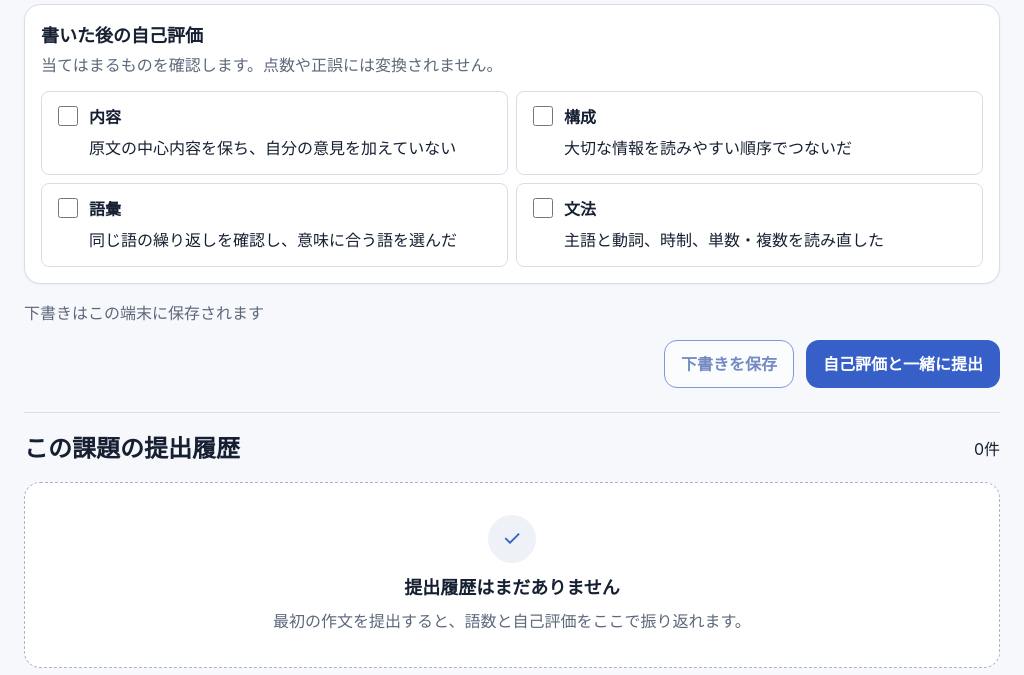
Test case: WritingPage › 空の提出を止め、入力後は正誤なしのAttemptと4観点を保存する
(page scrolled)
Click the button "自己評価と一緒に提出".
click(903, 364)  # box [806, 340, 1000, 388]
(page scrolled)
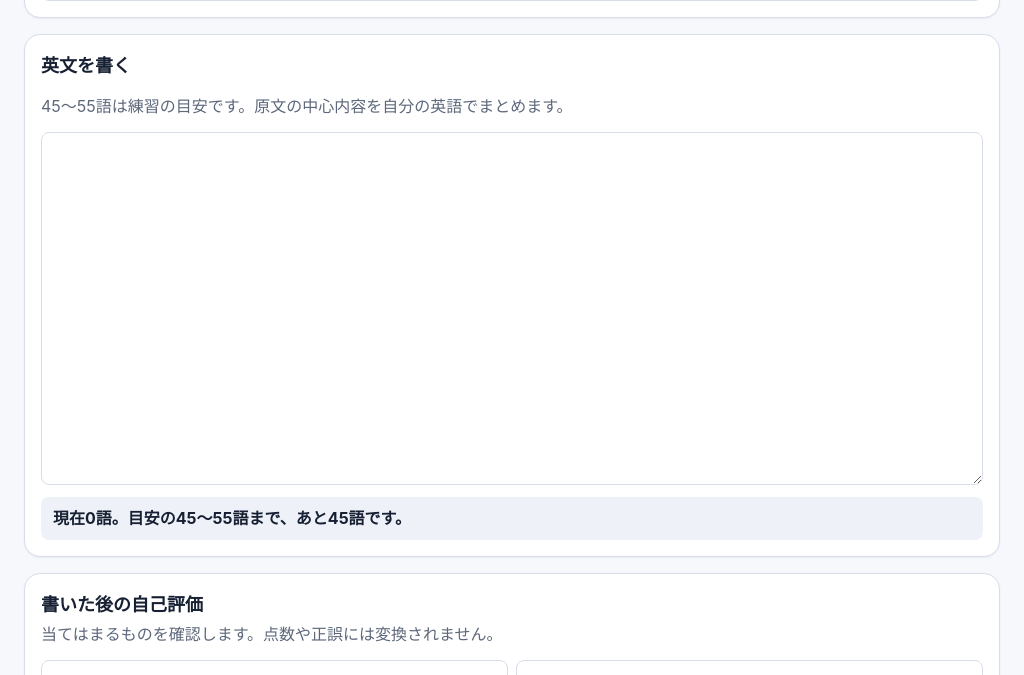
Type "The project helps local people and reduces waste." into the text box labelled "英文を書く".
click(512, 309); type("The project helps local people and reduces waste.")  # box [41, 132, 983, 485]
(page scrolled)
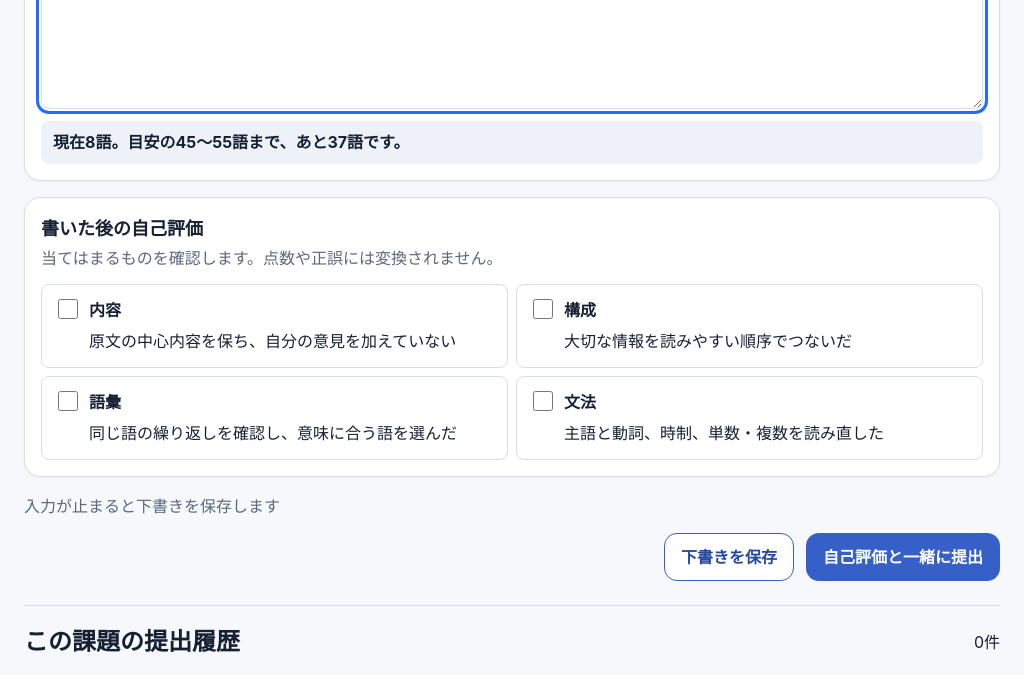
Click the checkbox labelled "内容 原文の中心内容を保ち、自分の意見を加えていない".
click(68, 309)  # box [58, 299, 78, 319]
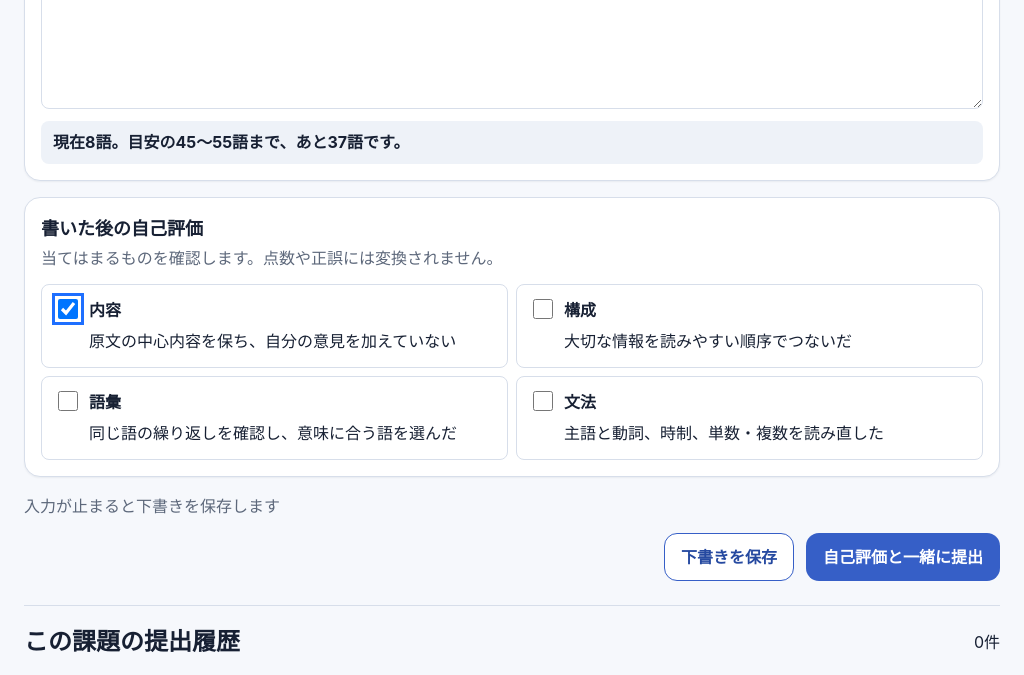
Click the checkbox labelled "構成 大切な情報を読みやすい順序でつないだ".
click(543, 309)  # box [533, 299, 553, 319]
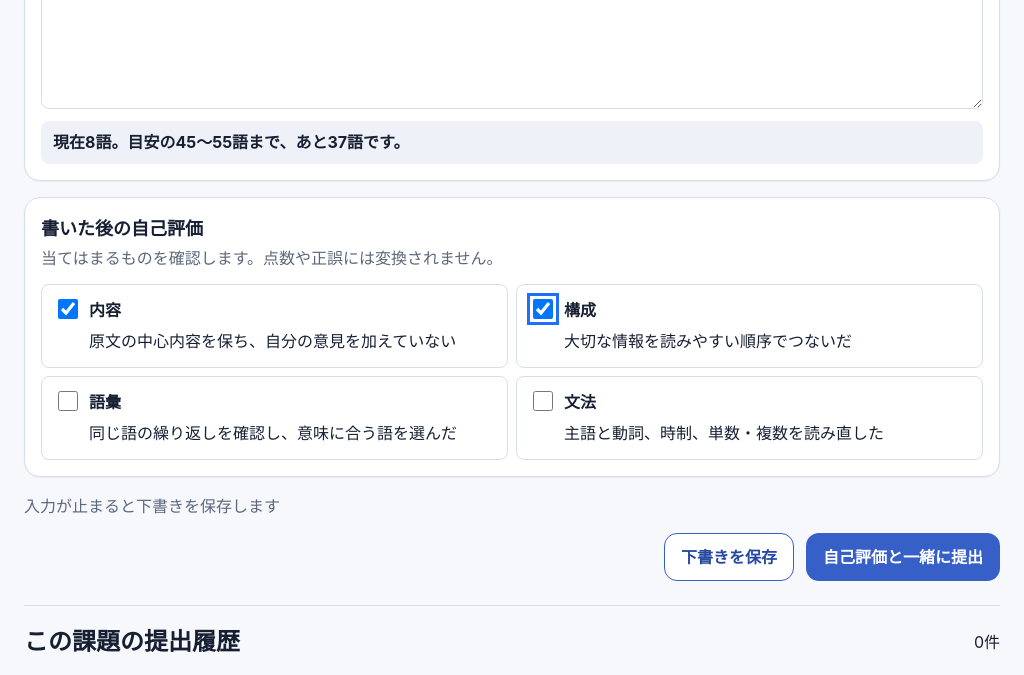
Click the button "自己評価と一緒に提出".
click(903, 557)  # box [806, 533, 1000, 581]
(page scrolled)
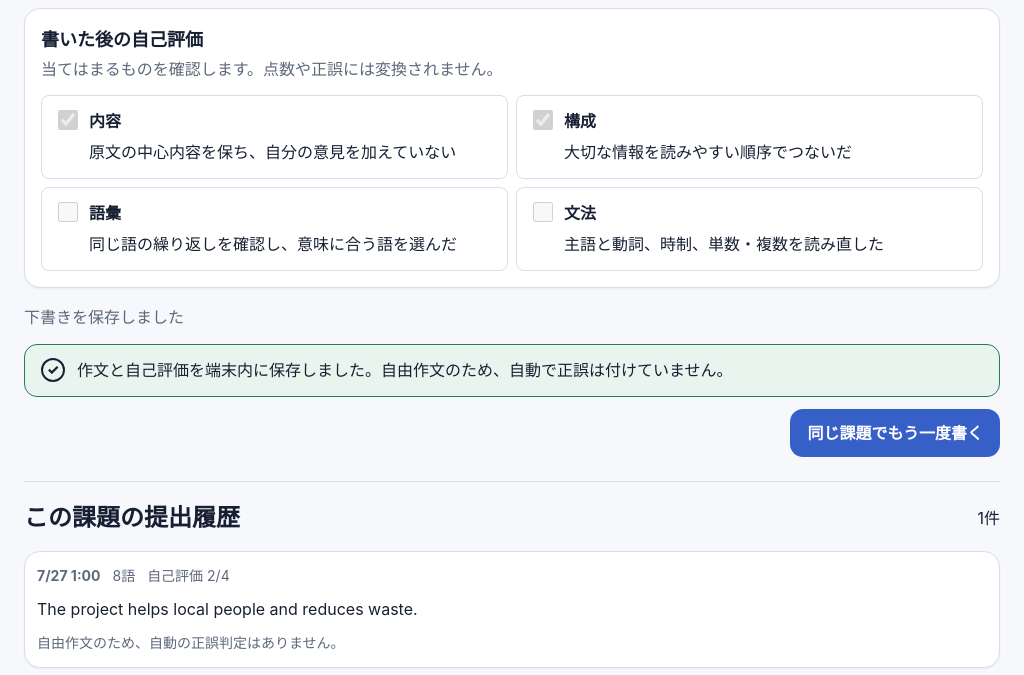
expect the text "作文と自己評価を端末内に保存しました。" is shown: met, box [77, 360, 732, 380]
expect the text "自由作文のため、自動の正誤判定はありません。" is shown: met, box [37, 634, 345, 651]
expect the text "1件" is shown: met, box [978, 505, 1000, 532]
